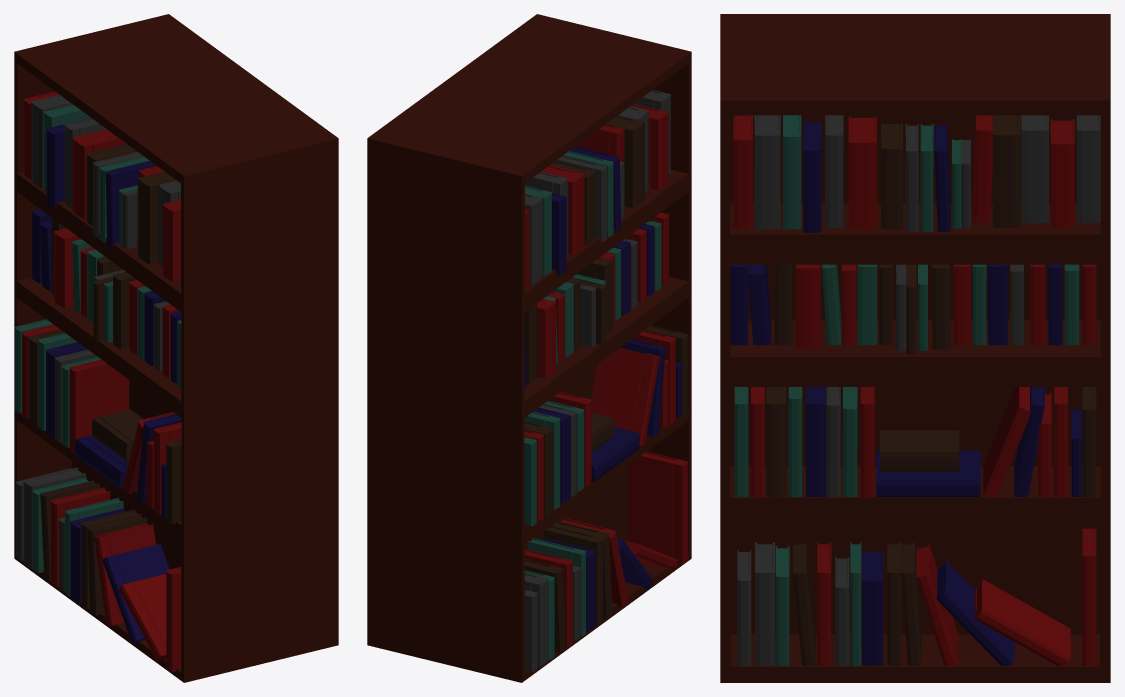
Rendered from Boekenkast.obj.
The picture shows the model from 3 angles, left to right: view 1: azimuth 30°, elevation 25°; view 2: azimuth 150°, elevation 25°; view 3: azimuth 270°, elevation 25°; orthographic projection. The views are drawn at different scales.
Parts seen in each view (by area): view 1: Cube.001, Cube.113, Cube.124, Cube.125, Cube.126, Cube.077, Cube.075, Cube.115, Cube.131, Cube.094, Cube.071, Cube.116 (+47 smaller); view 2: Cube.001, Cube.131, Cube.117, Cube.077, Cube.079, Cube.075, Cube.128, Cube.116, Cube.094, Cube.084, Cube.132, Cube.106 (+47 smaller); view 3: Cube.001, Cube.013, Cube.022, Cube.021, Cube.062, Cube.060, Cube.053, Cube.059, Cube.012, Cube.057, Cube.058, Cube.020 (+56 smaller).
Part boxes in pixels (x1=…): Cube.001: x1=14, y1=14, x2=338, y2=682; Cube.113: x1=69, y1=359, x2=129, y2=453; Cube.124: x1=119, y1=574, x2=166, y2=662; Cube.125: x1=102, y1=544, x2=169, y2=644; Cube.126: x1=94, y1=523, x2=155, y2=625; Cube.077: x1=137, y1=171, x2=176, y2=264; Cube.075: x1=72, y1=129, x2=126, y2=219; Cube.115: x1=92, y1=409, x2=143, y2=461; Cube.131: x1=166, y1=566, x2=181, y2=672; Cube.094: x1=53, y1=228, x2=80, y2=308; Cube.071: x1=105, y1=161, x2=156, y2=248; Cube.116: x1=74, y1=435, x2=128, y2=488; Cube.001: x1=367, y1=14, x2=691, y2=682; Cube.131: x1=628, y1=451, x2=688, y2=563; Cube.117: x1=591, y1=348, x2=660, y2=445; Cube.077: x1=606, y1=115, x2=644, y2=208; Cube.079: x1=631, y1=104, x2=668, y2=189; Cube.075: x1=541, y1=165, x2=584, y2=254; Cube.128: x1=543, y1=525, x2=603, y2=624; Cube.116: x1=591, y1=427, x2=639, y2=482; Cube.094: x1=537, y1=298, x2=555, y2=378; Cube.084: x1=525, y1=193, x2=542, y2=284; Cube.132: x1=524, y1=559, x2=566, y2=652; Cube.106: x1=527, y1=538, x2=585, y2=636; Cube.001: x1=720, y1=14, x2=1110, y2=682; Cube.013: x1=974, y1=579, x2=1070, y2=665; Cube.022: x1=880, y1=430, x2=959, y2=471; Cube.021: x1=876, y1=450, x2=980, y2=497; Cube.062: x1=848, y1=117, x2=876, y2=229; Cube.060: x1=992, y1=115, x2=1020, y2=227; Cube.053: x1=754, y1=115, x2=780, y2=229; Cube.059: x1=1021, y1=115, x2=1049, y2=223; Cube.012: x1=936, y1=560, x2=1014, y2=665; Cube.057: x1=1076, y1=115, x2=1100, y2=223; Cube.058: x1=1050, y1=119, x2=1074, y2=228; Cube.020: x1=983, y1=387, x2=1030, y2=497.
Bounding box in the file's own units: 0.9669 × 2.91 × 1.77.
